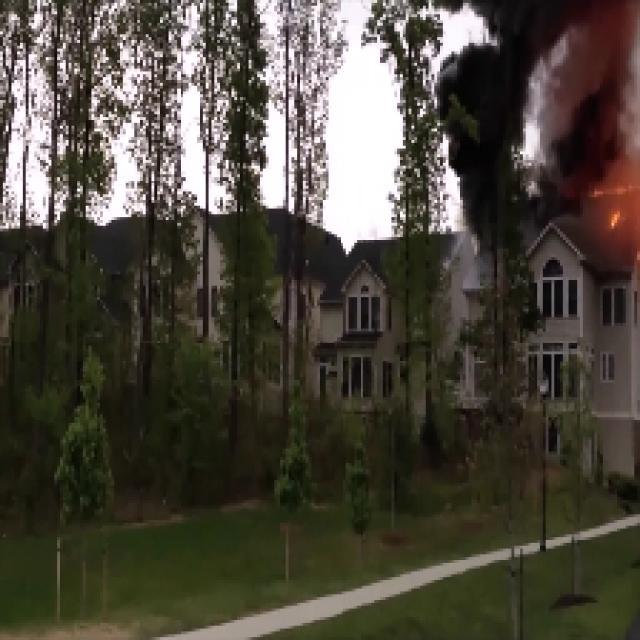Smoke: (470, 7, 624, 184)
